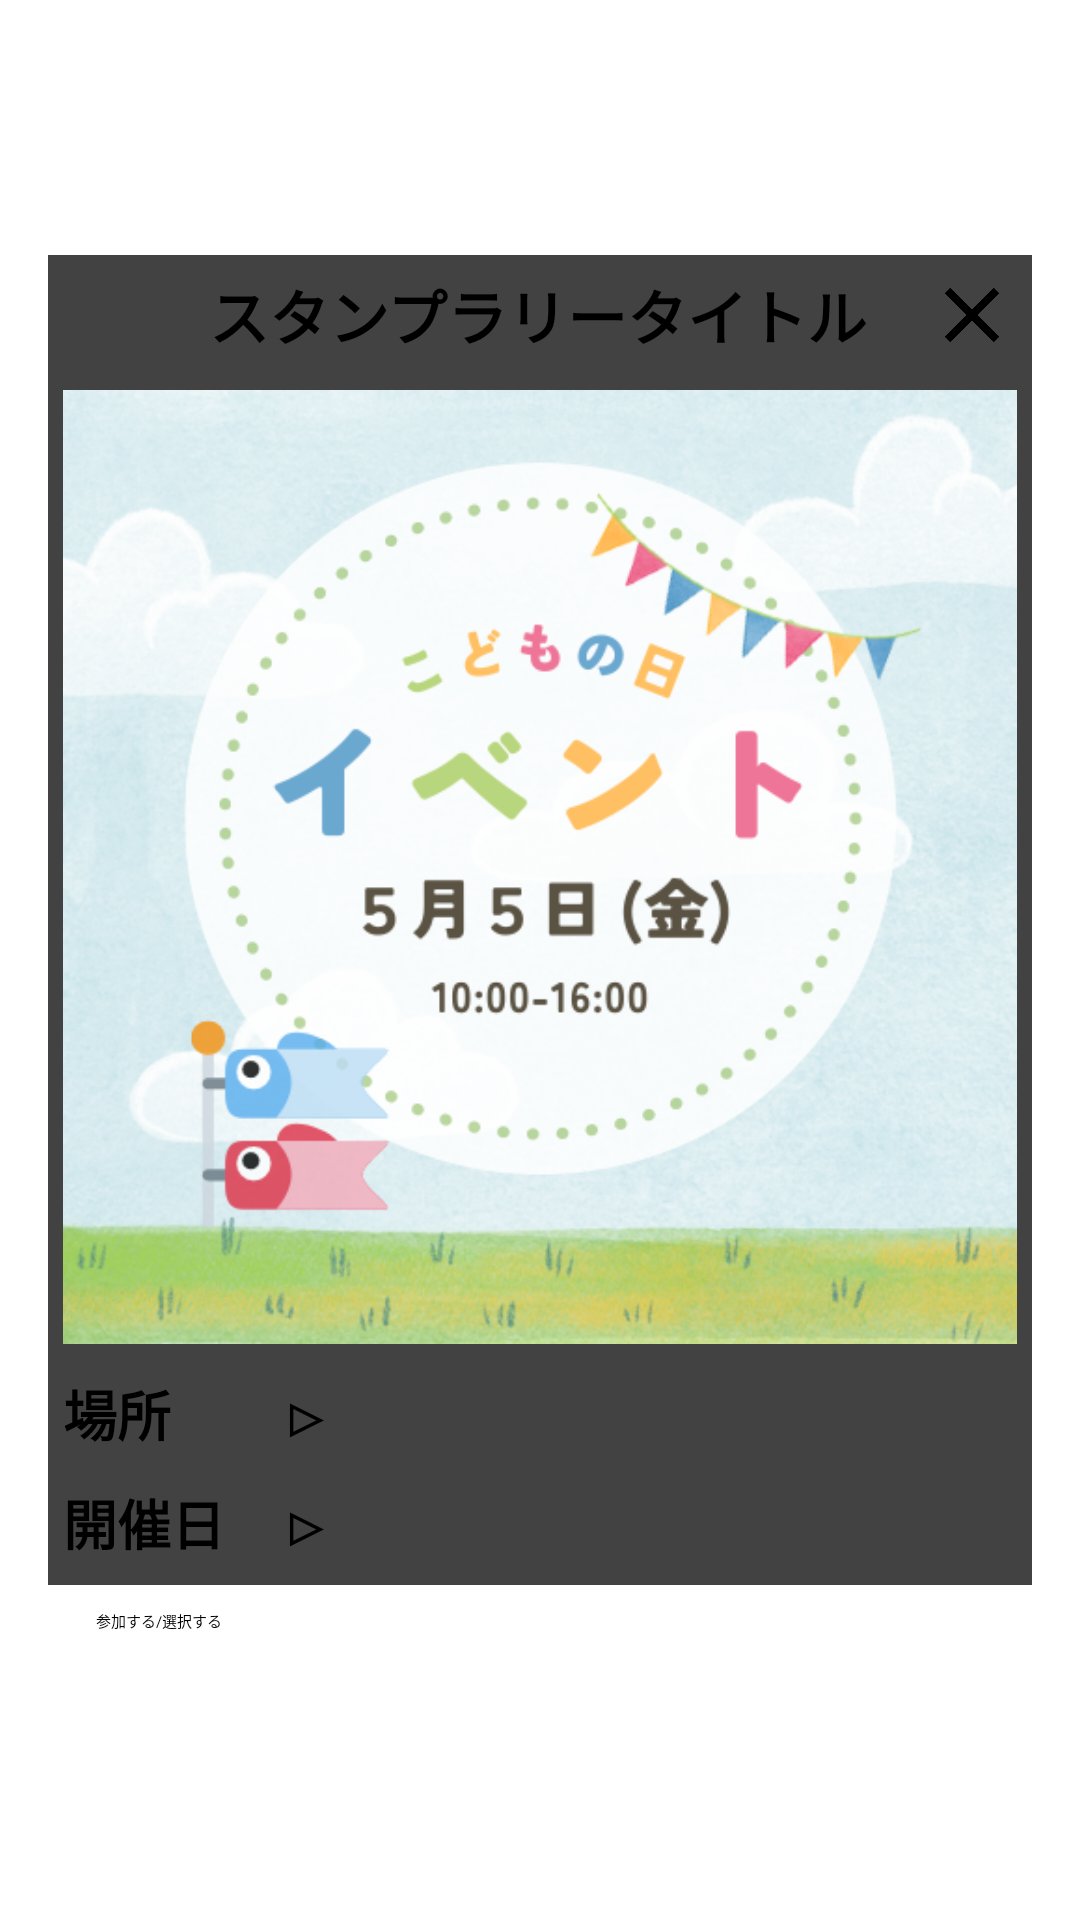

Point at icon controls on the screen. Image size 1080*1920, points as [x,y].
close: [972,315]
